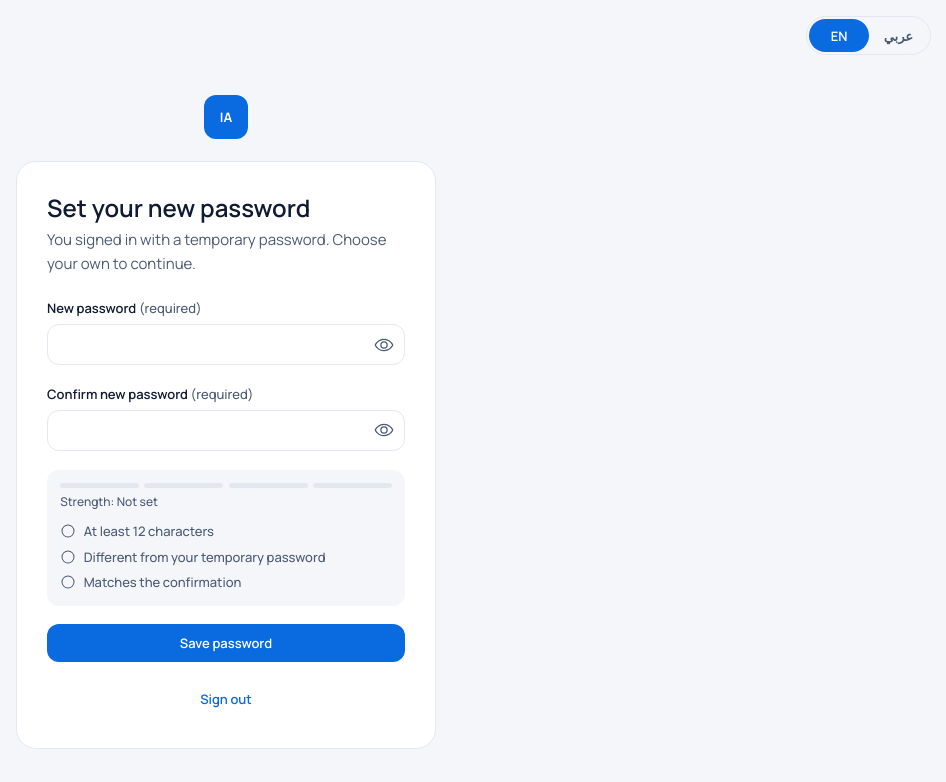
Test: set-password page › flags a short password on blur and keeps Save enabled
Click the password field with id "field-new_password" at (226, 345), box [47,324,405,365]
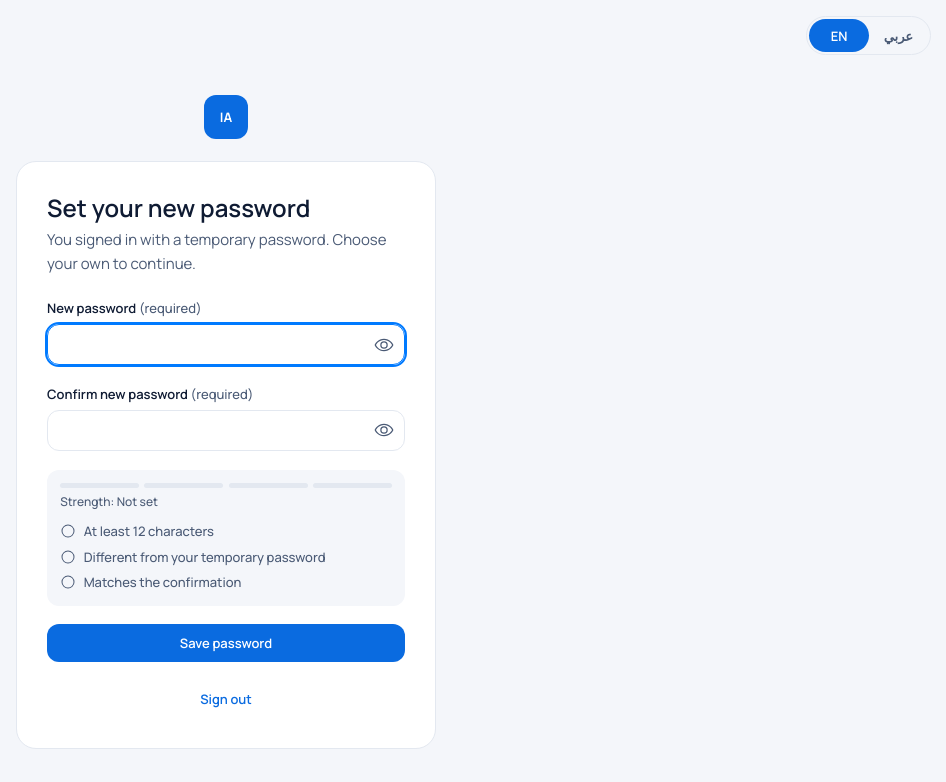
Type keys "short"
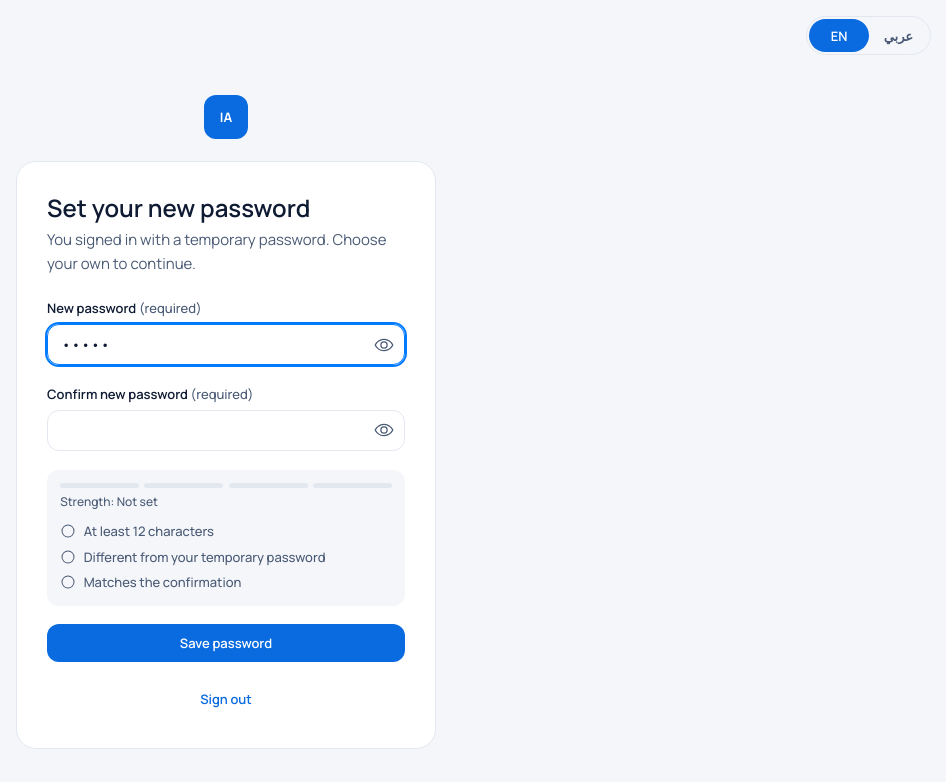
Press Tab
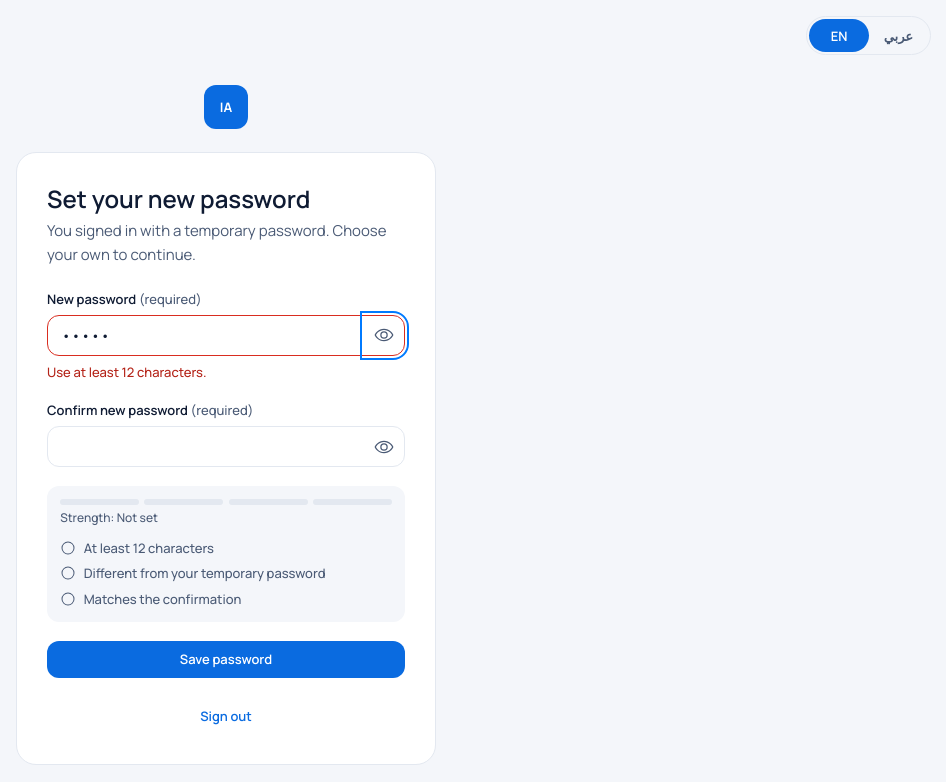
Expected: the button "Save password" is enabled, [47,641,405,678]
Expected: the message reads "Use at least 12 characters.", [47,362,206,380]
